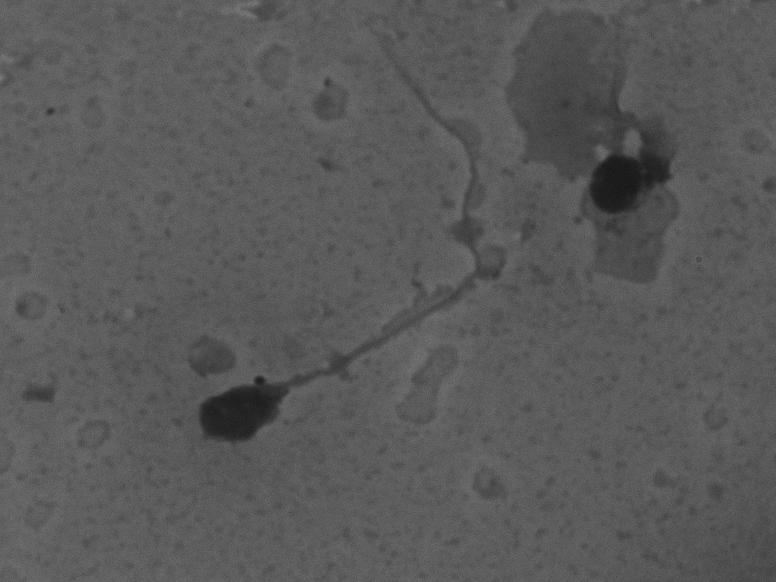Abnormal: (186, 19, 509, 456)
